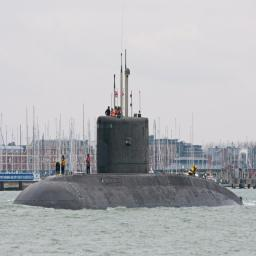submarine: (14, 49, 256, 204)
